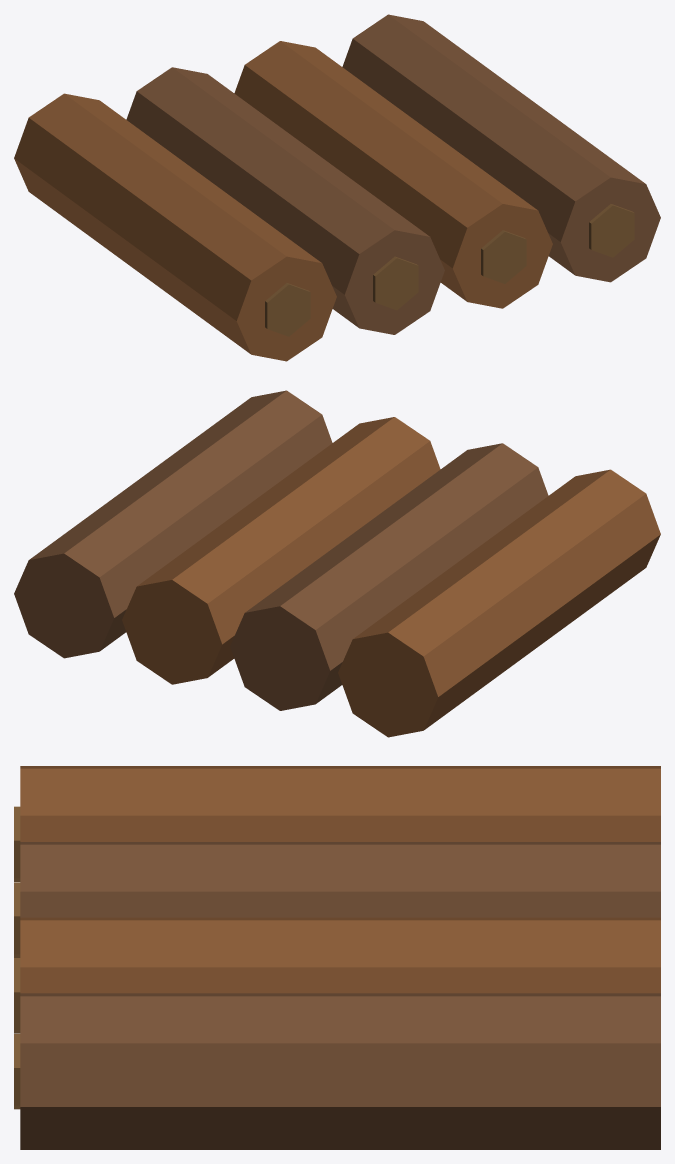
File: pile_leather_1.glb
3 renders of one model, top to bottom at view 1: azimuth 30°, elevation 25°; view 2: azimuth 150°, elevation 25°; view 3: azimuth 270°, elevation 25°, orthographic. The views are drawn at different scales.
Parts seen in each view (by area): view 1: pile_leather_1; view 2: pile_leather_1; view 3: pile_leather_1.
Part boxes in pixels (bbox=[...]): pile_leather_1: bbox=[14, 14, 660, 361]; pile_leather_1: bbox=[14, 390, 660, 737]; pile_leather_1: bbox=[14, 766, 660, 1149].
Bounding box in the file's own units: 1.1 × 0.26 × 1.01.
